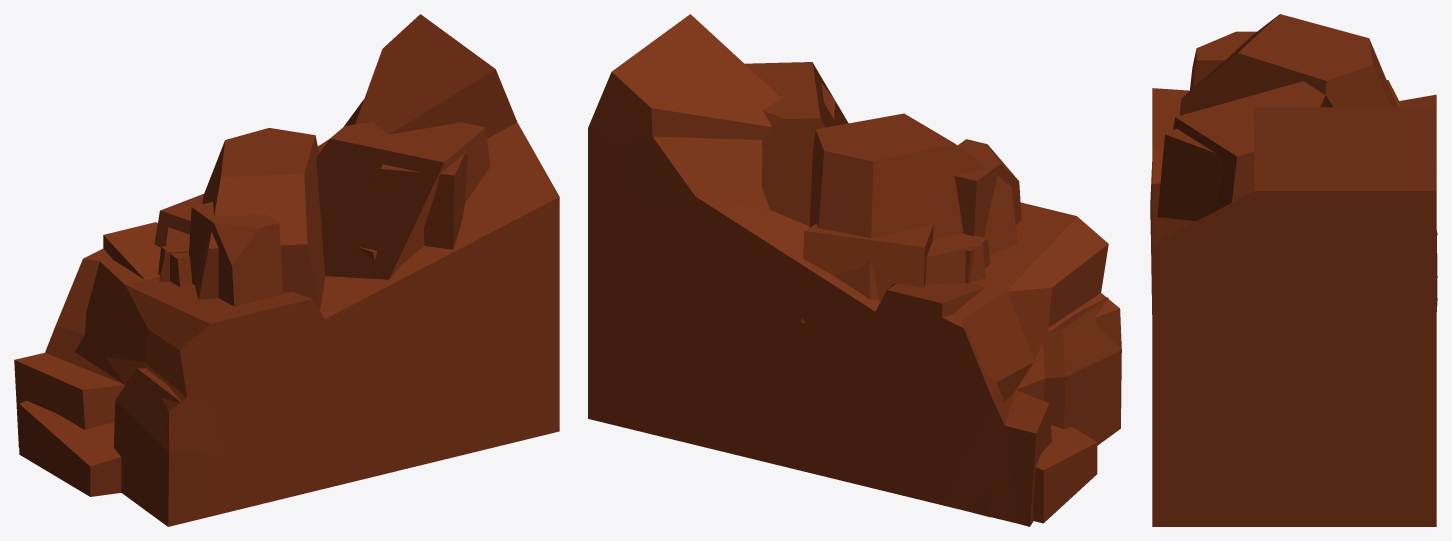
Rendered from Cliffs.fbx.
The picture shows the model from 3 angles, left to right: view 1: azimuth 30°, elevation 25°; view 2: azimuth 150°, elevation 25°; view 3: azimuth 270°, elevation 25°; orthographic projection. The views are drawn at different scales.
Parts seen in each view (by area): view 1: CliffFace_01, CliffFace_02, CliffFace_03; view 2: CliffFace_01, CliffFace_03, CliffFace_02; view 3: CliffFace_01, CliffFace_02, CliffFace_03.
Part boxes in pixels (left/top/right/bottom): CliffFace_01: left=103, top=14, right=559, bottom=526; CliffFace_02: left=14, top=122, right=490, bottom=526; CliffFace_03: left=74, top=128, right=467, bottom=451; CliffFace_01: left=588, top=14, right=1121, bottom=504; CliffFace_03: left=593, top=83, right=1121, bottom=517; CliffFace_02: left=588, top=62, right=1107, bottom=526; CliffFace_01: left=1150, top=31, right=1436, bottom=526; CliffFace_02: left=1153, top=80, right=1437, bottom=526; CliffFace_03: left=1150, top=14, right=1437, bottom=314.
Bounding box in the file's own units: 2104 × 1579 × 1012.
